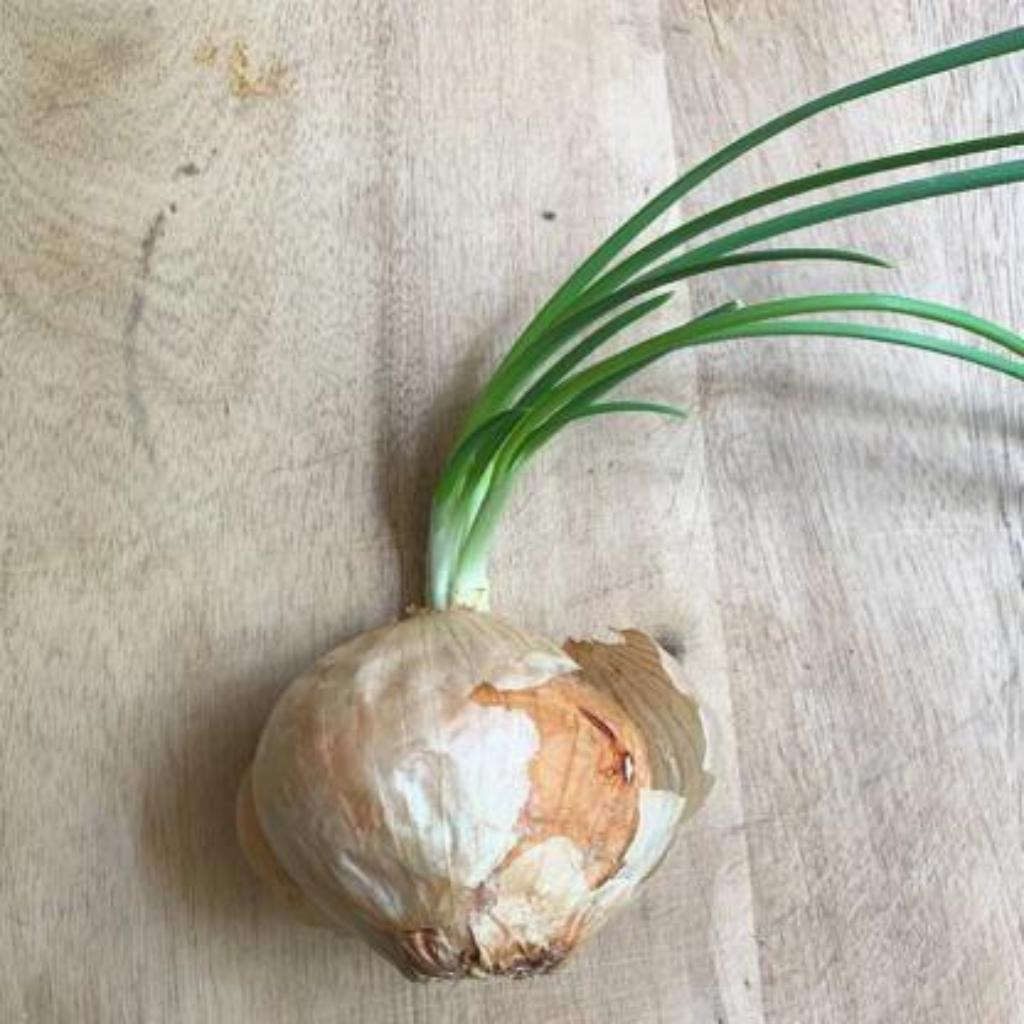Onion: (241, 613, 711, 981)
